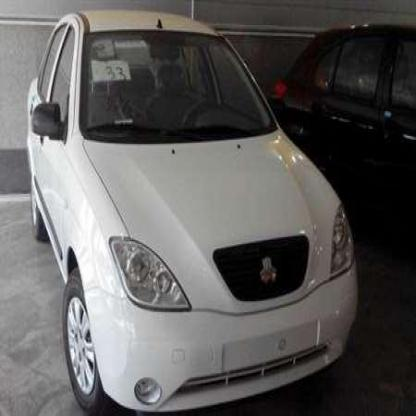Car: (25, 8, 361, 416), (268, 17, 416, 230)
